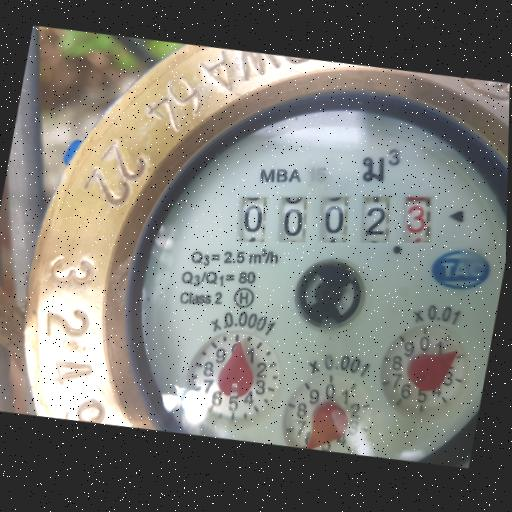0: (315, 192, 355, 247), (274, 193, 313, 246), (233, 193, 273, 244)
2: (355, 191, 397, 248)
3: (397, 193, 437, 246)
border_water_meter_number: (226, 160, 446, 279)
